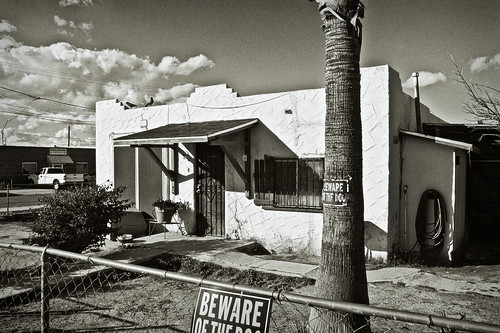building: (93, 90, 390, 252)
car: (28, 166, 83, 190)
door: (194, 144, 225, 239)
sign: (191, 288, 271, 332)
sky: (1, 1, 493, 126)
